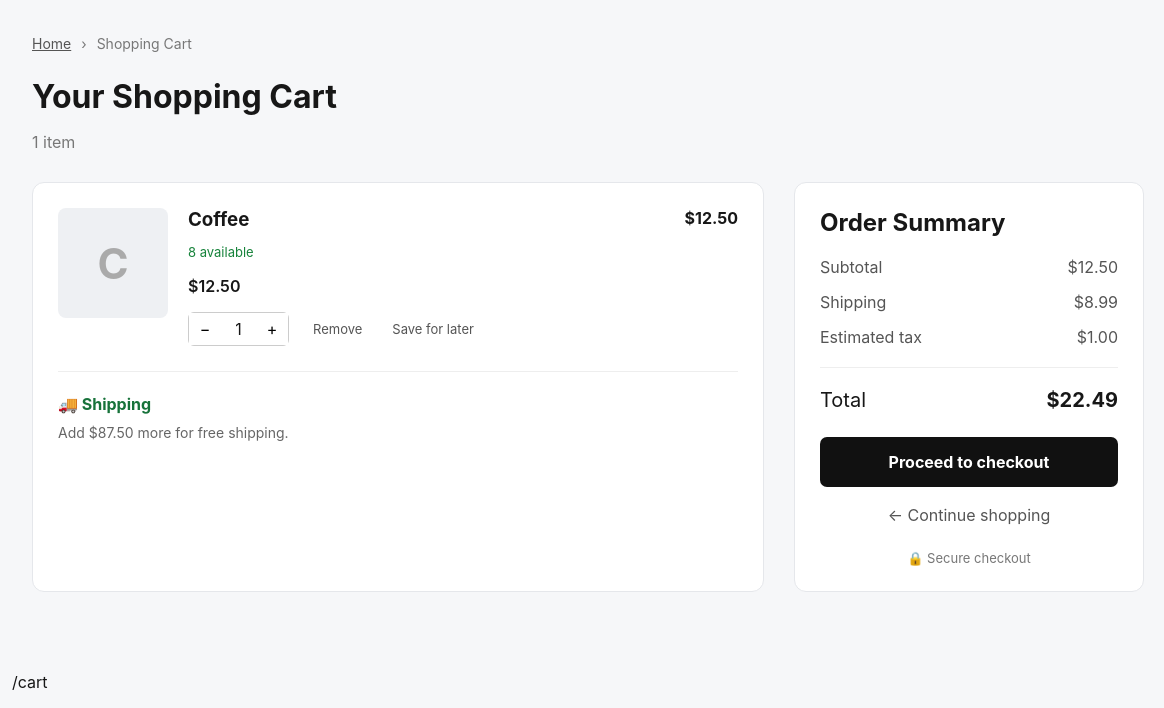
Cart › displays an error if updating the quantity fails
Click the button "+". click: [272, 329]
box: [256, 313, 288, 345]
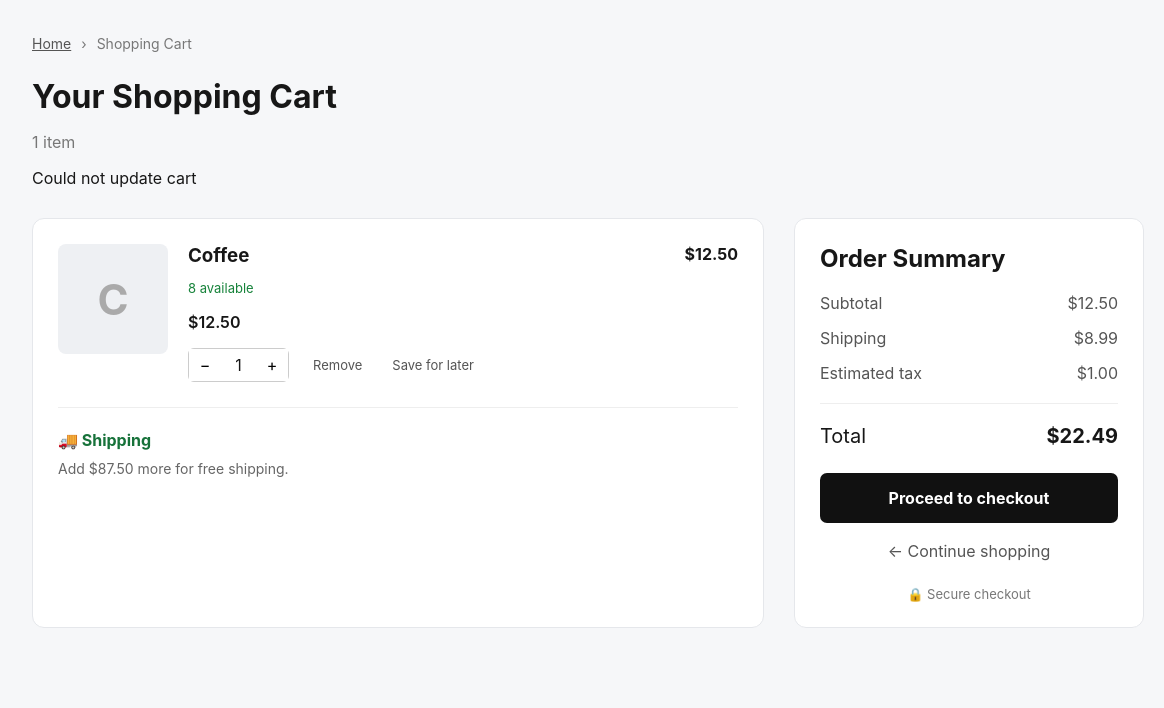
Now the text "Could not update cart" is shown, box [32, 168, 196, 188]
